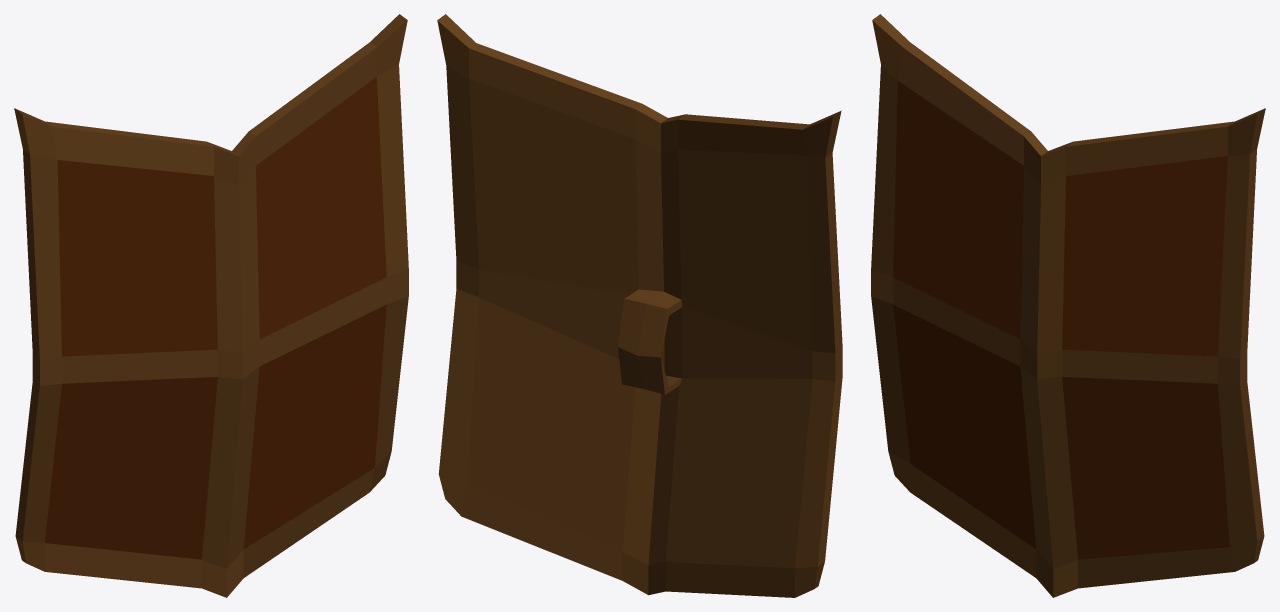
The model's file is BronzeKiteshield.glb.
The picture shows the model from 3 angles, left to right: view 1: azimuth 30°, elevation 25°; view 2: azimuth 150°, elevation 25°; view 3: azimuth 330°, elevation 25°; orthographic projection. The views are drawn at different scales.
Visible parts, largest first — view 1: Kiteshield; view 2: Kiteshield; view 3: Kiteshield.
Part boxes in pixels (x1,y1,x2,y2): Kiteshield: (14,14,408,597); Kiteshield: (437,14,842,597); Kiteshield: (871,14,1265,597).
Bounding box in the file's own units: 0.6266 × 0.8115 × 0.12.
